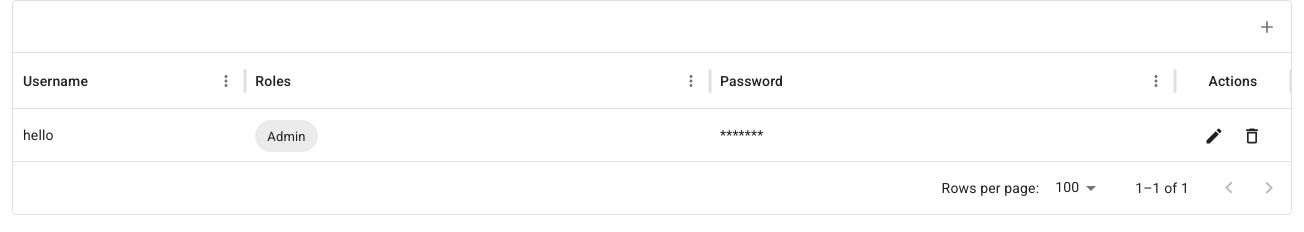
Test: Table › edits user on edit user
Click the menu item named "EditButton" at (1214, 136), box left=1199, top=120, right=1229, bottom=150
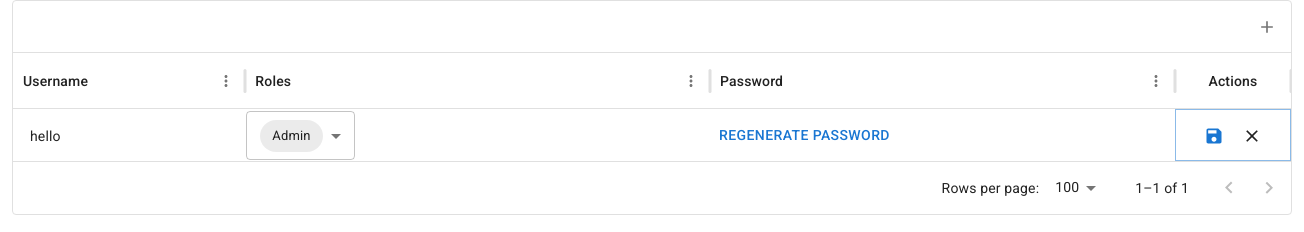
Check: the button "Regenerate Password" is shown
Click the button "Regenerate Password" at (804, 136), box left=711, top=111, right=898, bottom=160
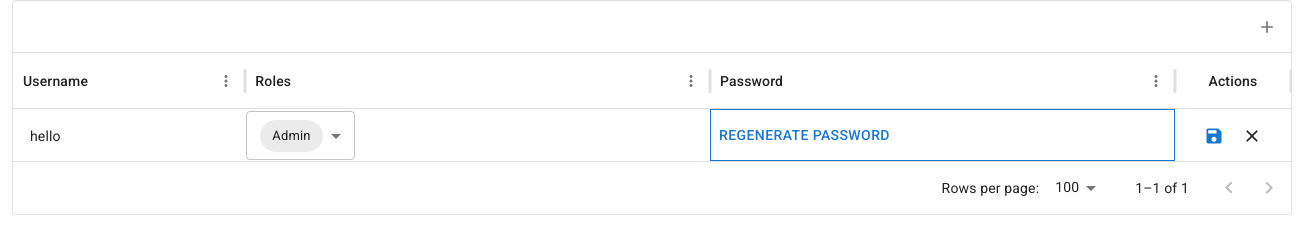
Check: the menu item named "SaveButton" is shown
Click the menu item named "SaveButton" at (1214, 136), box left=1199, top=120, right=1229, bottom=150
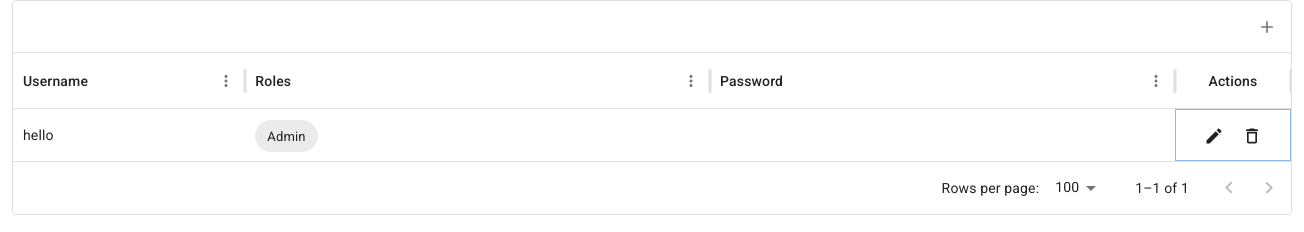
Check: the cell "hello" is shown, box left=23, top=127, right=54, bottom=143
